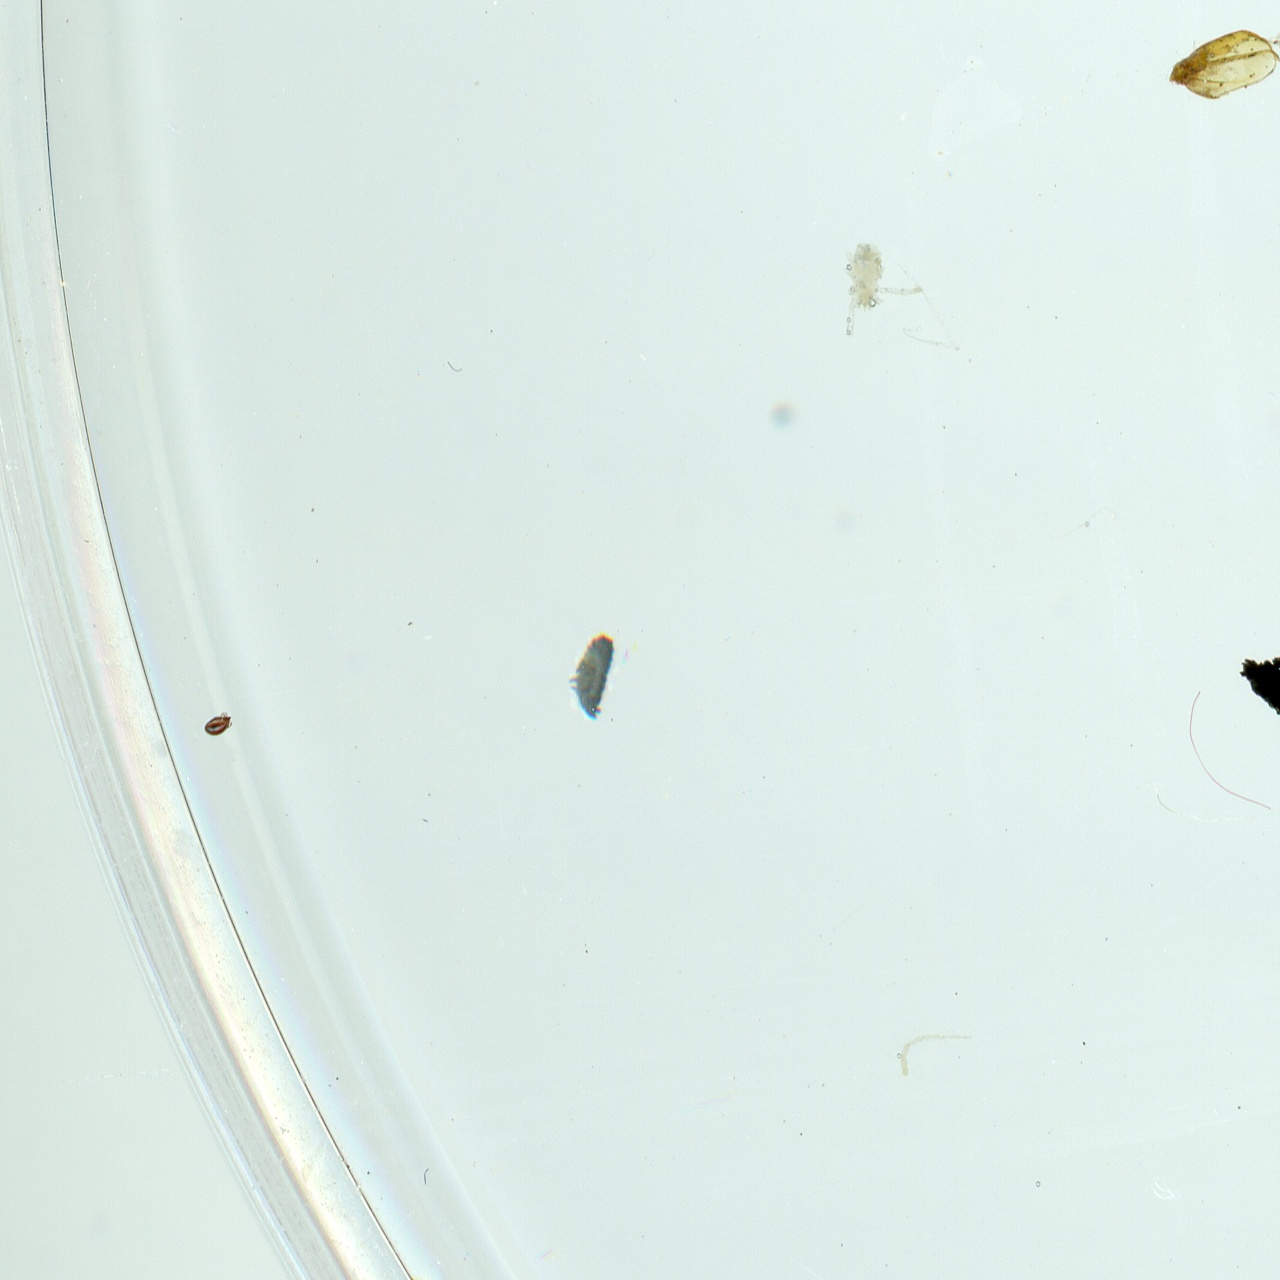arthropod: (833, 238, 932, 342), (564, 628, 624, 727), (200, 712, 234, 737)
